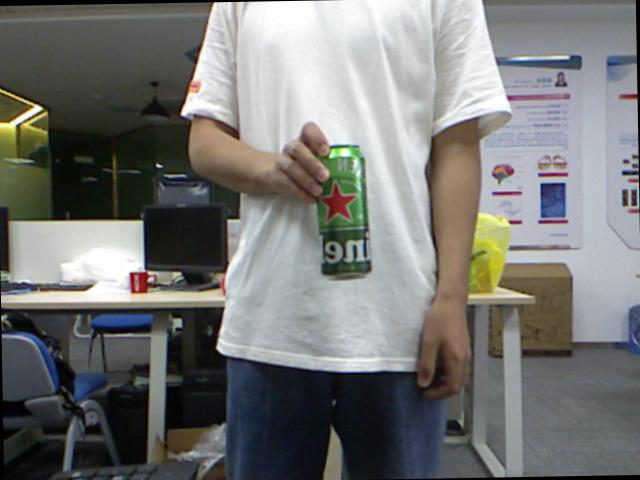cardboard paper: (501, 263, 573, 356)
metal: (317, 145, 372, 278)
